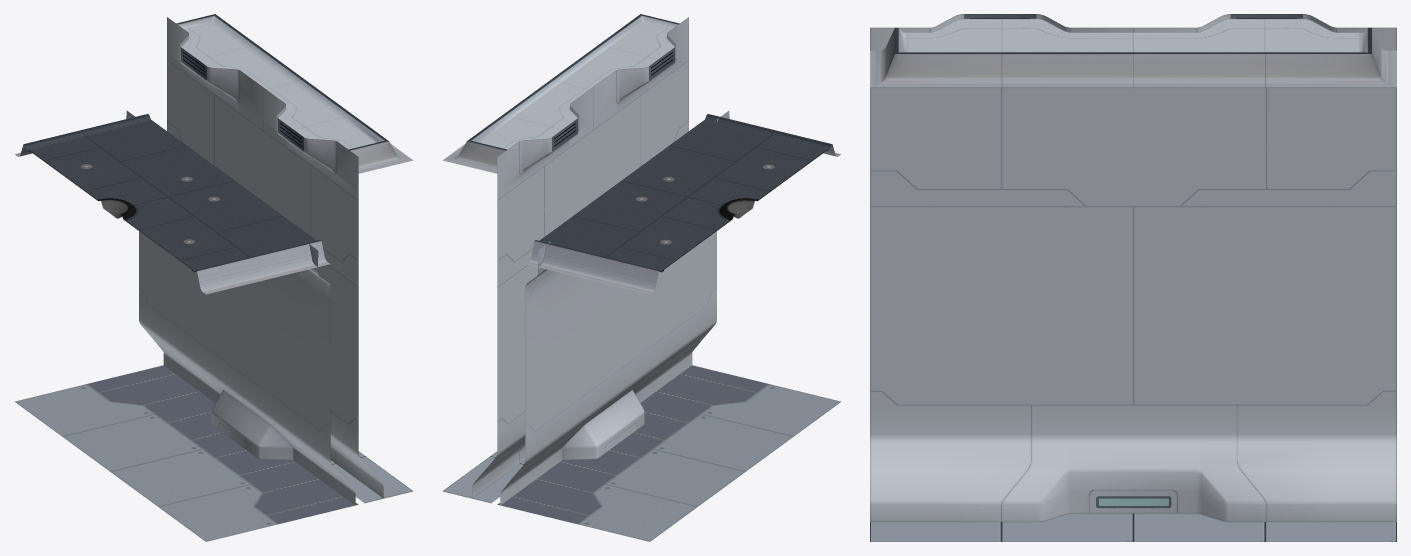
Rendered from Room_A_4m_blank_wall.fbx.
The picture shows the model from 3 angles, left to right: view 1: azimuth 30°, elevation 25°; view 2: azimuth 150°, elevation 25°; view 3: azimuth 270°, elevation 25°; orthographic projection. The views are drawn at different scales.
Visible parts, largest first — view 1: Room_A_4m_blank_wall; view 2: Room_A_4m_blank_wall; view 3: Room_A_4m_blank_wall.
Part boxes in pixels (<box>): Room_A_4m_blank_wall: <box>14,14,413,541</box>; Room_A_4m_blank_wall: <box>442,14,841,541</box>; Room_A_4m_blank_wall: <box>870,14,1396,541</box>.
Bounding box in the file's own units: 250 × 400 × 400.
Materials: 7 (7 with a texture image).
